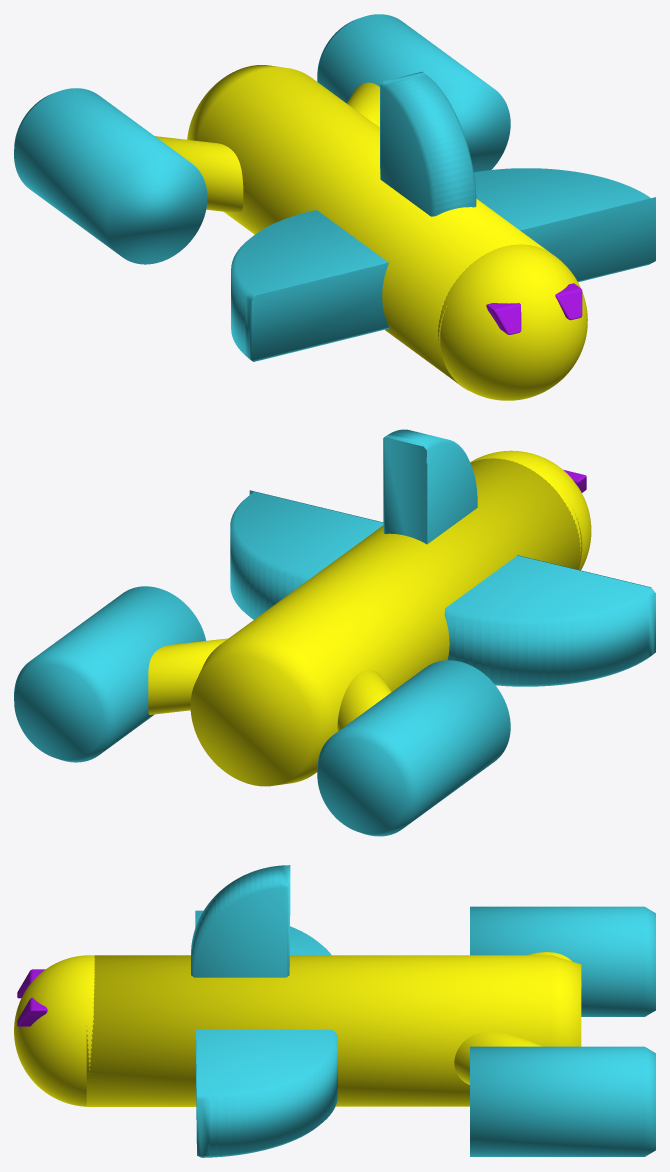
Rendered from racingblend2.3.fbx.
3 views of the same model, one above another, from view 1: azimuth 30°, elevation 25°; view 2: azimuth 150°, elevation 25°; view 3: azimuth 270°, elevation 25° (orthographic). The views are drawn at different scales.
Visible parts, largest first — view 1: 球.001, 円柱.008, 円柱.002, 円柱.004, 円柱.007, 円柱.005, 円柱.003, 円柱.006, 立方体, 立方体.001; view 2: 球.001, 円柱.008, 円柱.002, 円柱.007, 円柱.004, 円柱.005, 円柱.006, 円柱.003; view 3: 球.001, 円柱.007, 円柱.004, 円柱.008, 円柱.005, 円柱.006, 円柱.002, 立方体.001.
Boxes of the visible parts, left/top/right/bottom form: 球.001: left=187, top=65, right=587, bottom=400; 円柱.008: left=14, top=88, right=207, bottom=264; 円柱.002: left=231, top=210, right=388, bottom=361; 円柱.004: left=474, top=168, right=655, bottom=282; 円柱.007: left=317, top=14, right=510, bottom=172; 円柱.005: left=380, top=71, right=476, bottom=216; 円柱.003: left=155, top=136, right=243, bottom=213; 円柱.006: left=347, top=82, right=379, bottom=127; 立方体: left=486, top=303, right=521, bottom=334; 立方体.001: left=555, top=283, right=582, bottom=320; 球.001: left=190, top=450, right=591, bottom=786; 円柱.008: left=317, top=660, right=510, bottom=836; 円柱.002: left=444, top=555, right=655, bottom=686; 円柱.007: left=14, top=586, right=205, bottom=762; 円柱.004: left=230, top=490, right=383, bottom=619; 円柱.005: left=383, top=429, right=477, bottom=544; 円柱.006: left=148, top=638, right=228, bottom=714; 円柱.003: left=337, top=669, right=391, bottom=731; 球.001: left=14, top=955, right=581, bottom=1106; 円柱.007: left=470, top=1046, right=655, bottom=1156; 円柱.004: left=196, top=1029, right=337, bottom=1157; 円柱.008: left=470, top=906, right=655, bottom=1016; 円柱.005: left=191, top=865, right=290, bottom=977; 円柱.006: left=454, top=1031, right=542, bottom=1084; 円柱.002: left=195, top=910, right=331, bottom=955; 立方体.001: left=17, top=997, right=47, bottom=1026.
Bounding box in the file's own units: 584 × 329 × 847.
